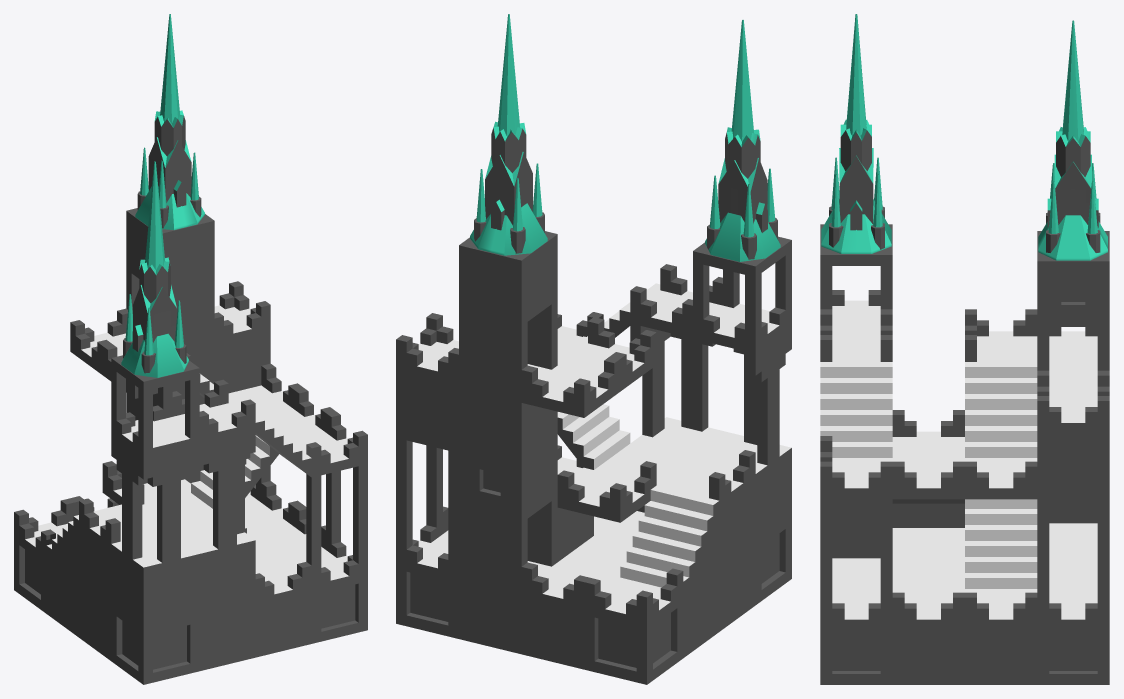
Rendered from tower-middle.glb.
The picture shows the model from 3 angles, left to right: view 1: azimuth 30°, elevation 25°; view 2: azimuth 150°, elevation 25°; view 3: azimuth 270°, elevation 25°; orthographic projection. The views are drawn at different scales.
Parts seen in each view (by area): view 1: level; view 2: level; view 3: level.
Boxes of the visible parts, box(x1,y1,x2,y2) form: level: box(14, 14, 367, 684); level: box(396, 14, 791, 684); level: box(820, 14, 1109, 684).
Size of what is drawn, in the model's own units: 4 by 9.44 by 4.
